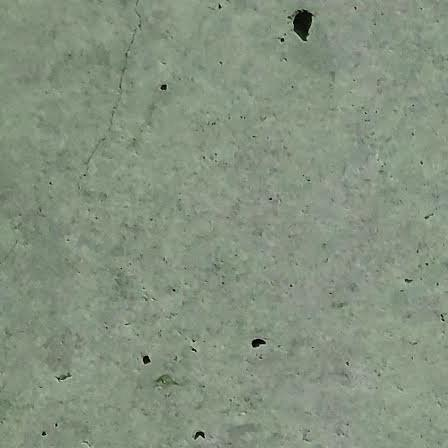crack: (72, 0, 156, 197)
spalling: (279, 0, 327, 49)
